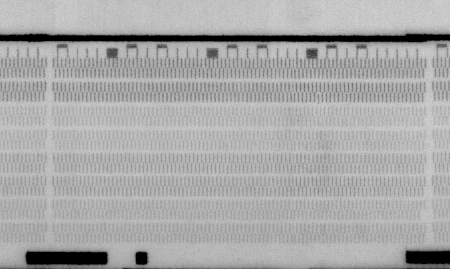Oblique printing: (313, 91, 326, 106)
